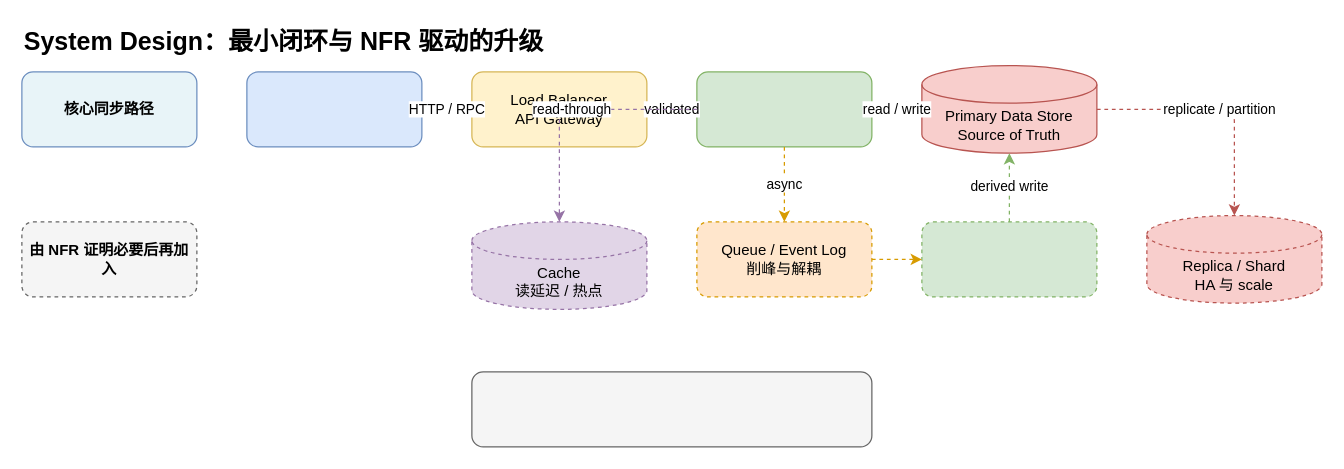
The diagram is 1344 pixels wide and 469 high, and some of its shapes have lost their labels. The shapes that lost their labels are listed below. From the top down, each one's centre as x and y in pixels, then its label:
(334,109): User / Client 发起核心操作
(784,109): Stateless Service 业务规则
(1009,259): Worker 异步副作用
(671,409): 实线：最小闭环 虚线：NFR 驱动的升级
